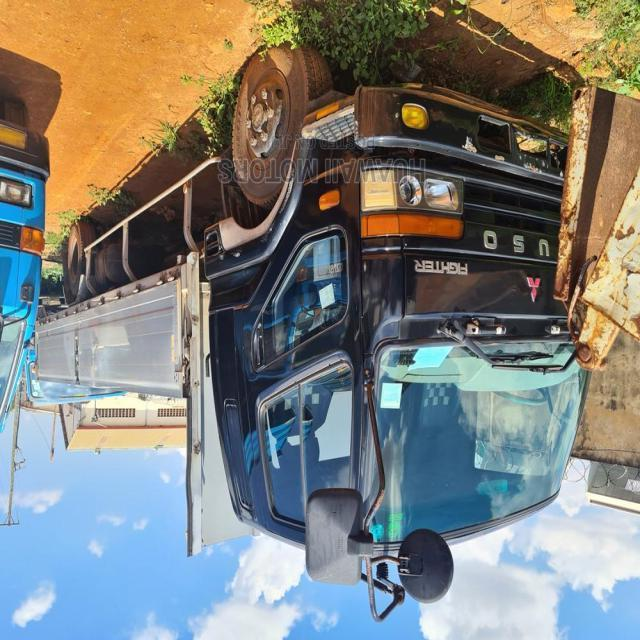truck: (36, 44, 603, 620)
